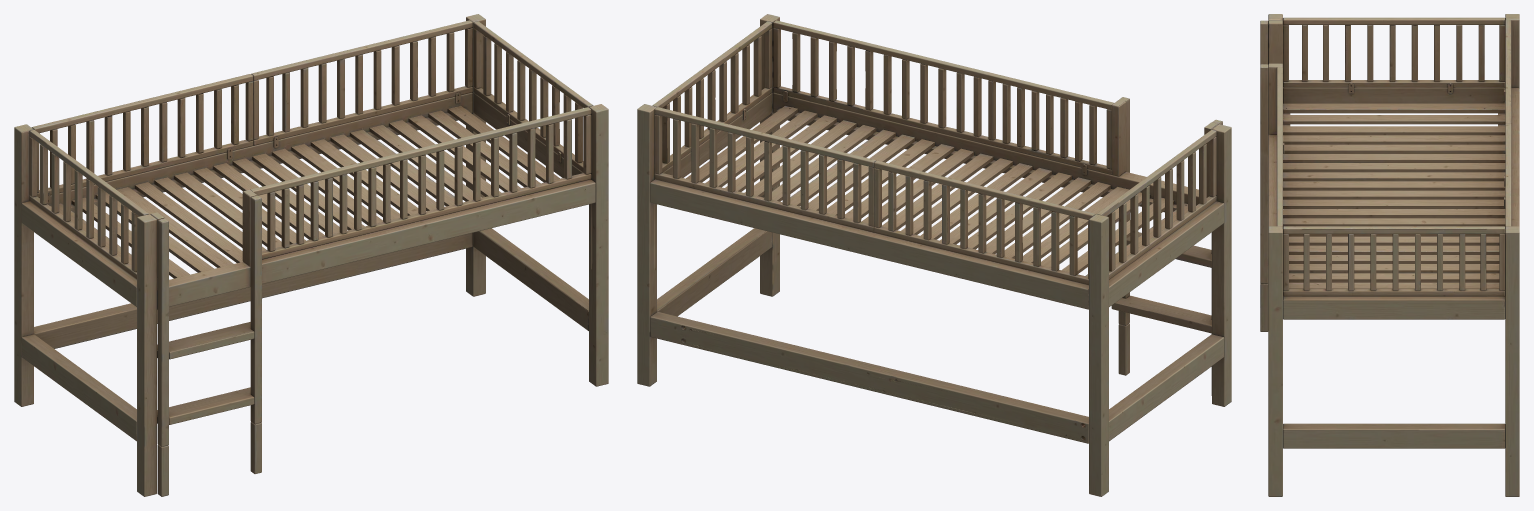
3 renders of one model, left to right at view 1: azimuth 30°, elevation 25°; view 2: azimuth 150°, elevation 25°; view 3: azimuth 270°, elevation 25°, orthographic. The views are drawn at different scales.
Parts seen in each view (by area): view 1: 200x90; view 2: 200x90; view 3: 200x90.
Boxes of the visible parts, x1,y1,x2,y2 form: 200x90: (14,14,608,496); 200x90: (637,14,1231,496); 200x90: (1260,14,1519,496).
Size of the model in its own units: 2.14 by 1.21 by 1.07.
Materials: 1 (1 with a texture image).
